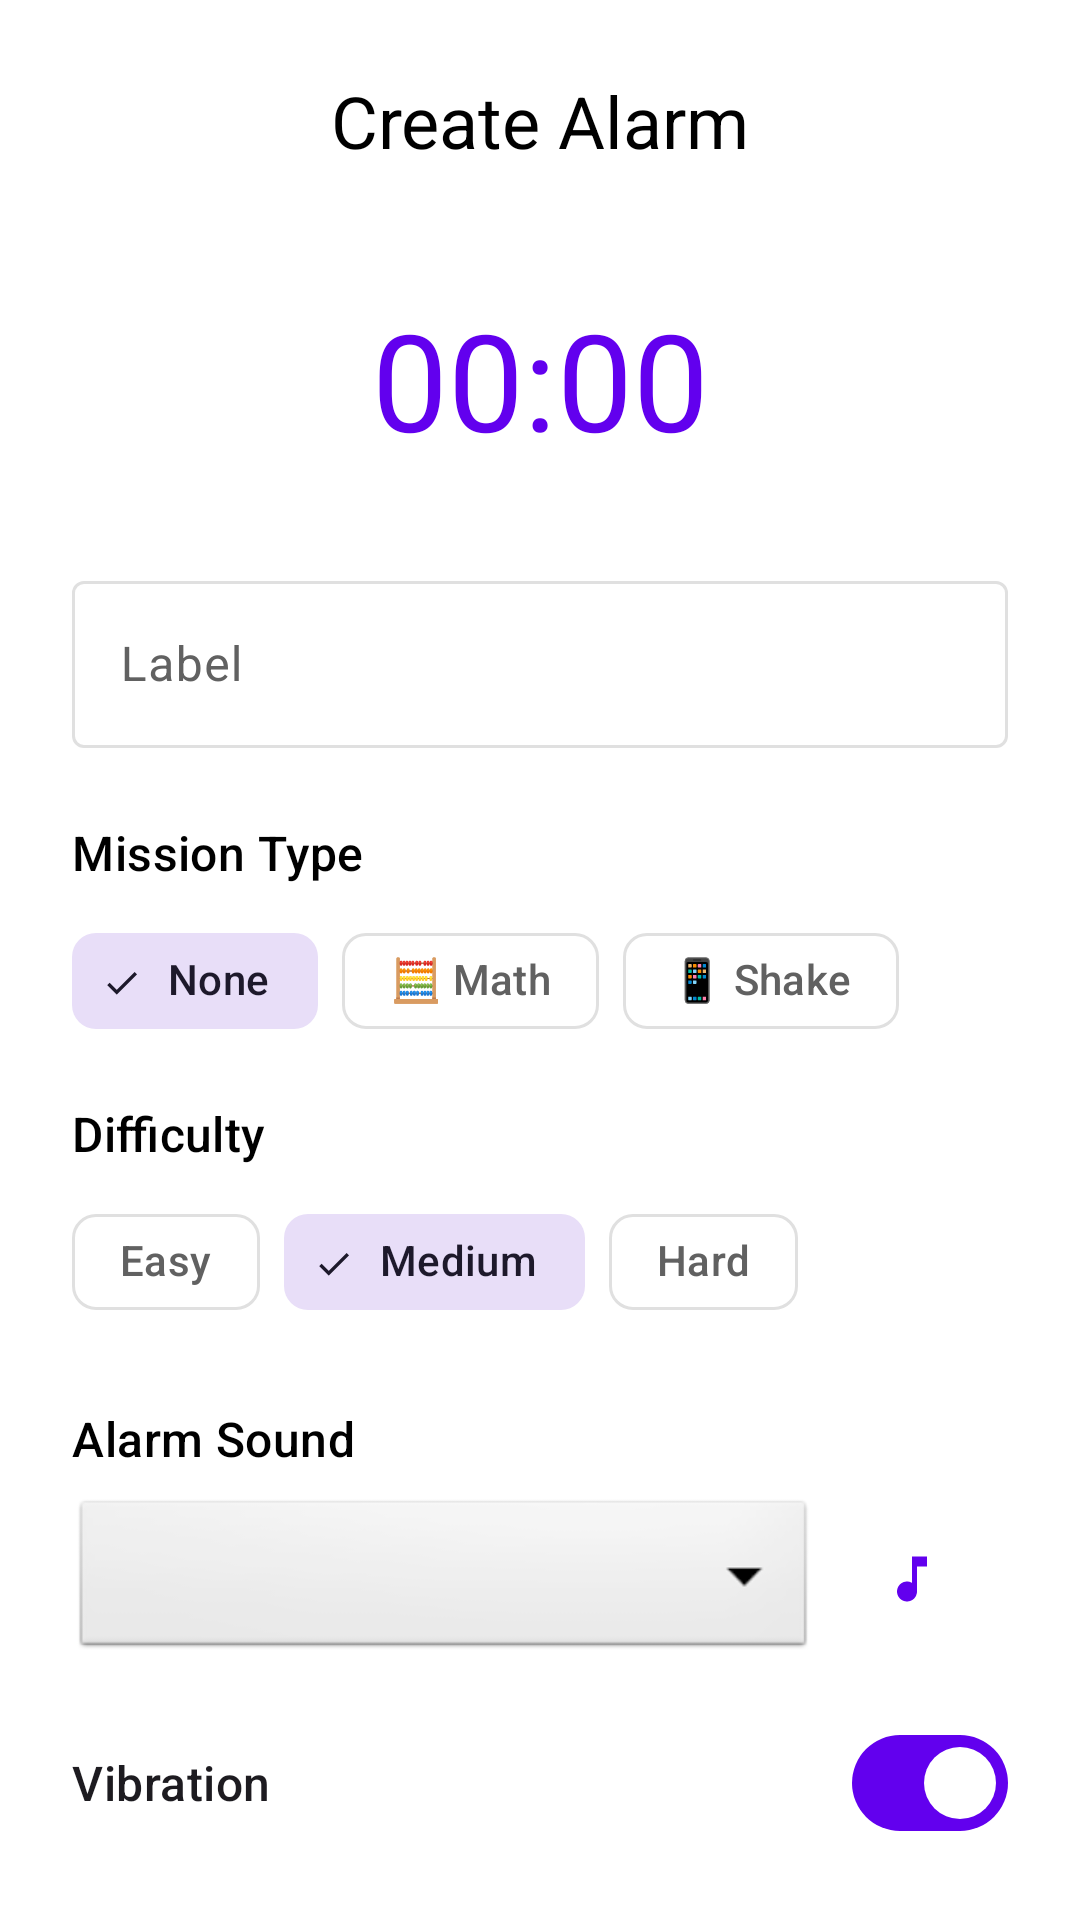

Screen size 1080×1920. Icon name, then its box in pixels as (x1, y1, x2, y2):
Preview sound: (897, 1556, 927, 1602)
